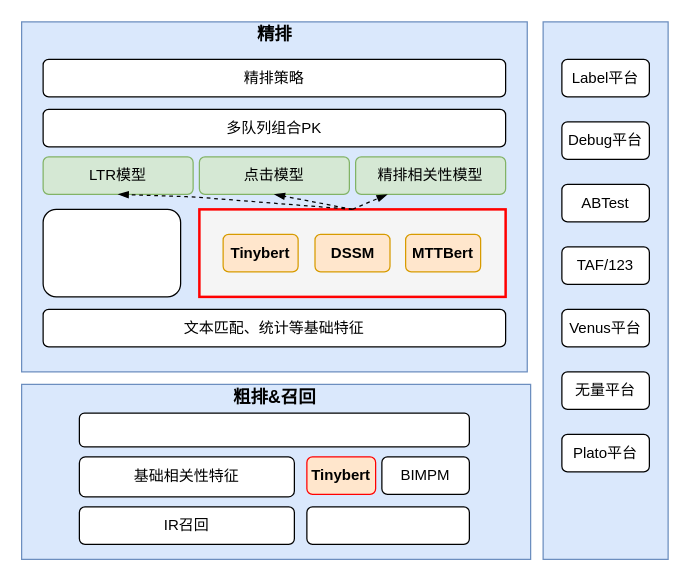
The diagram is 691 pixels wide and 581 high, and some of its shapes have lost their labels. Each missing label, with the centre of its shape:
"权威、时效性、内容质量、点击特征" goes at point 111,252.
"粗排相关性&粗排策略" goes at point 273,429.
"语义召回" goes at point 387,525.
